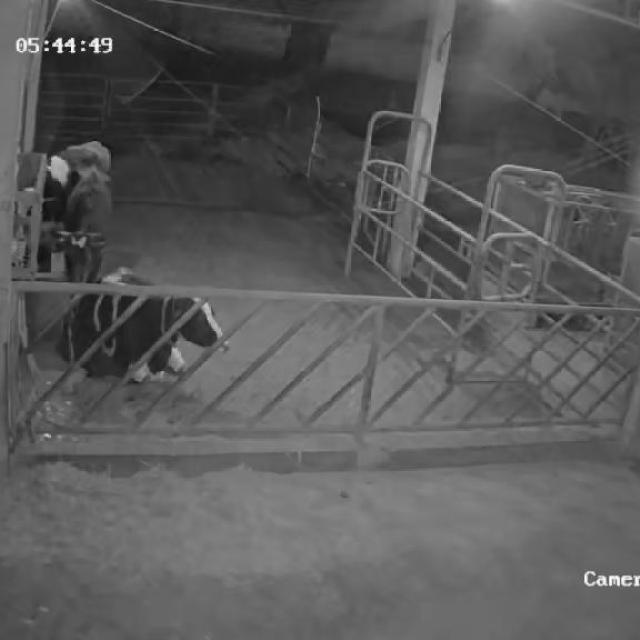lying down: (68, 269, 228, 384)
standing: (18, 138, 109, 246), (48, 169, 112, 283)
